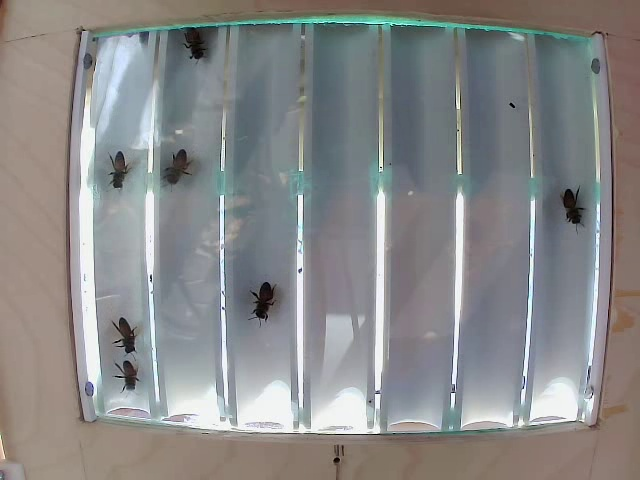bee: (172, 24, 223, 61), (246, 281, 285, 327), (96, 145, 141, 184), (557, 179, 589, 228), (105, 308, 140, 351), (111, 357, 151, 394), (151, 151, 189, 186)
